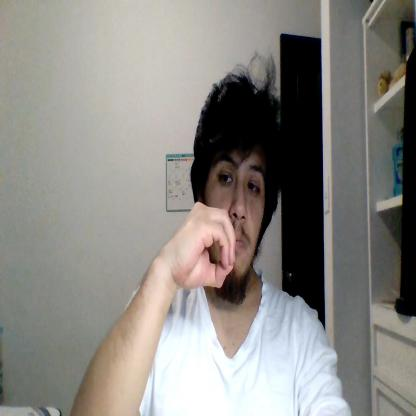O: (174, 202, 236, 289)
